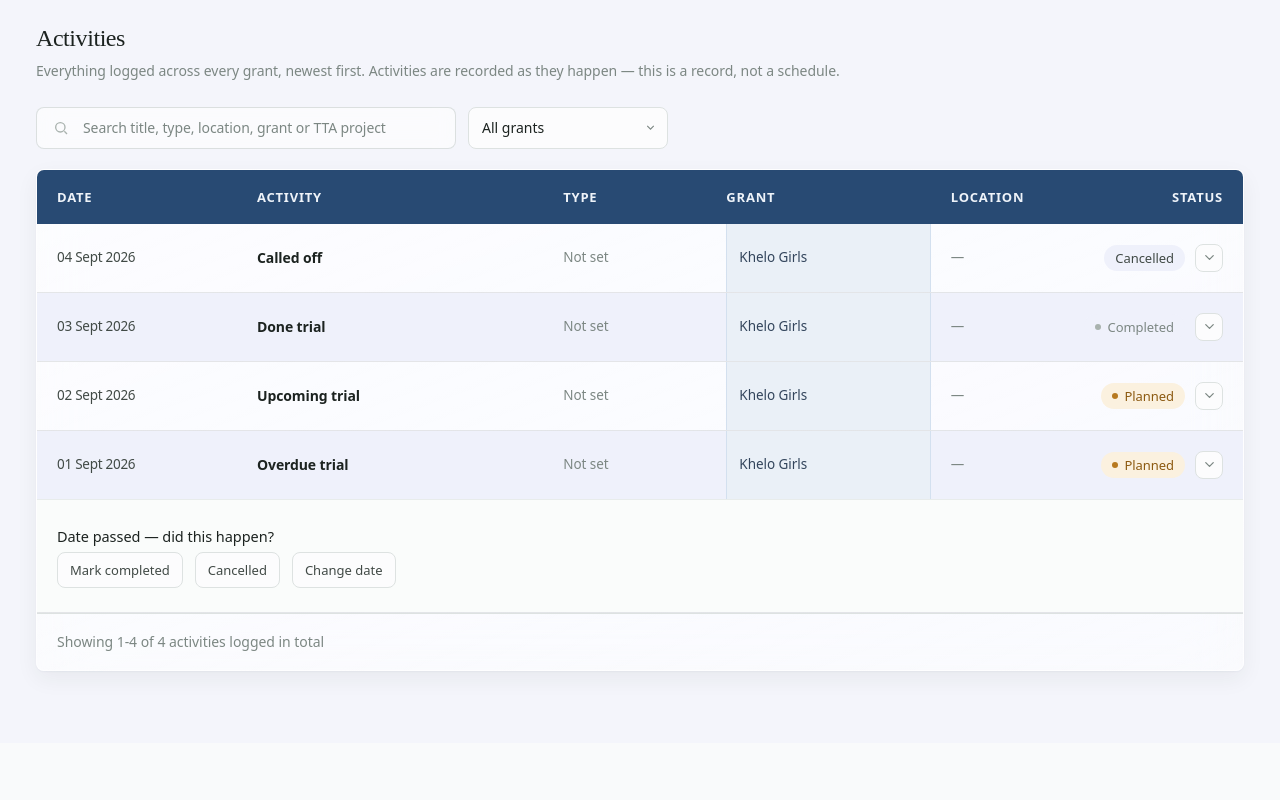
it: Mark completed saves the status alone, then re-reads the list
Expected: the text "Overdue trial" is shown, x1=257 y1=455 x2=348 y2=474
Click the button "Mark completed". click: (120, 570)
box: x1=57 y1=552 x2=183 y2=588
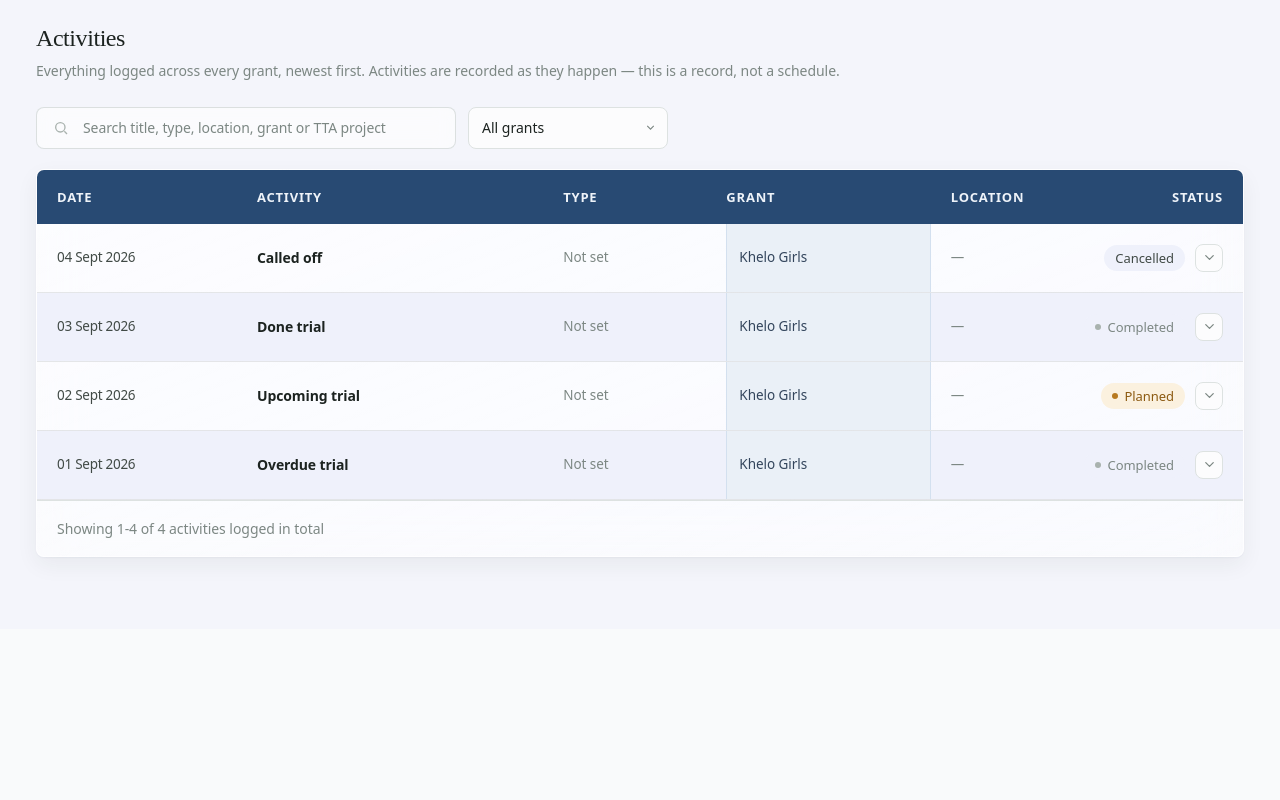
Now the text "Date passed — did this happen?" is gone
